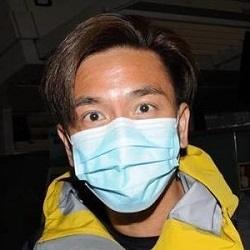mask: (63, 112, 185, 218)
